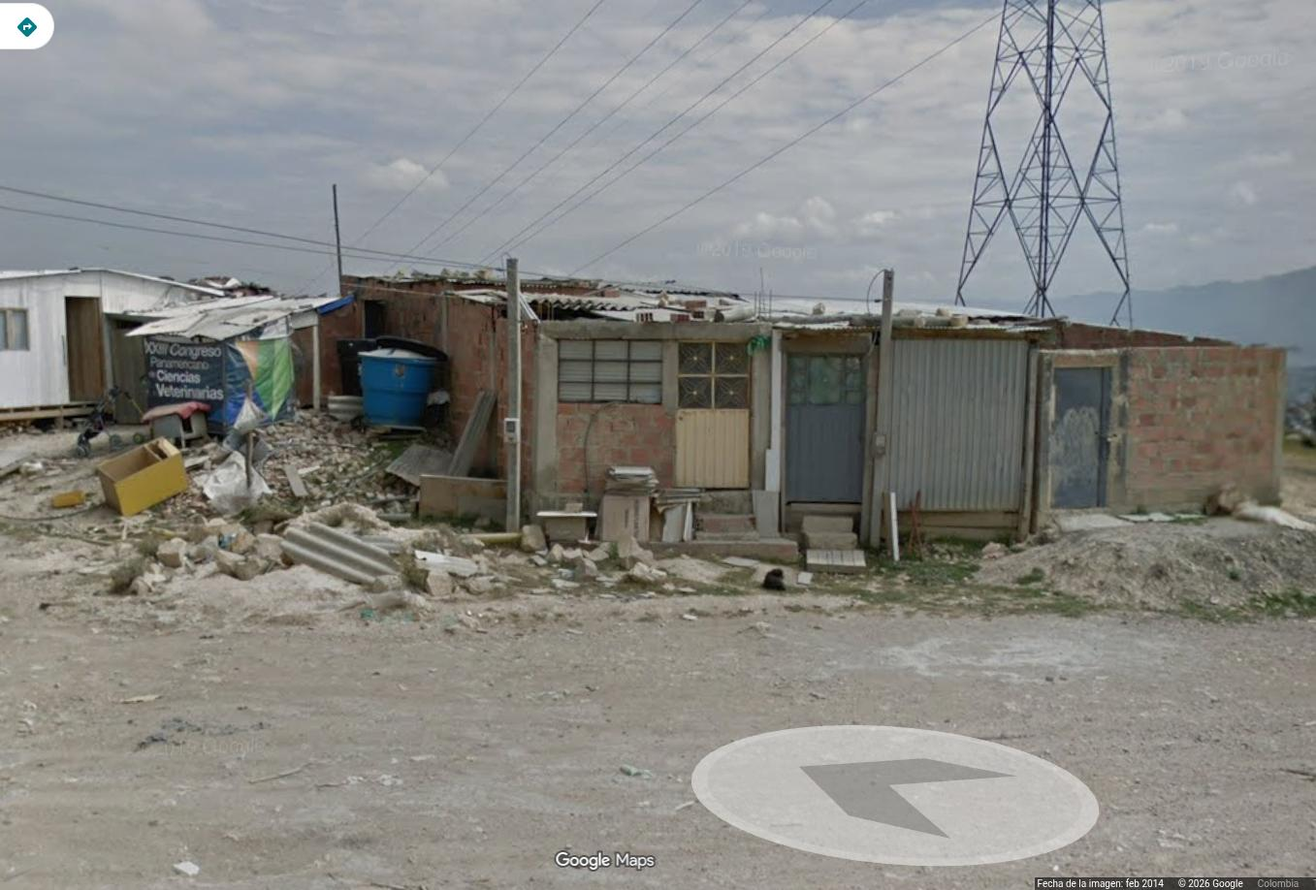casa: (523, 306, 1285, 534)
